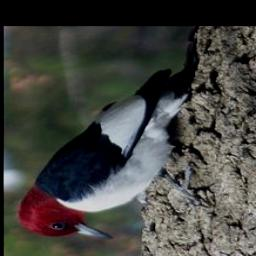Woodpecker: (15, 64, 218, 242)
